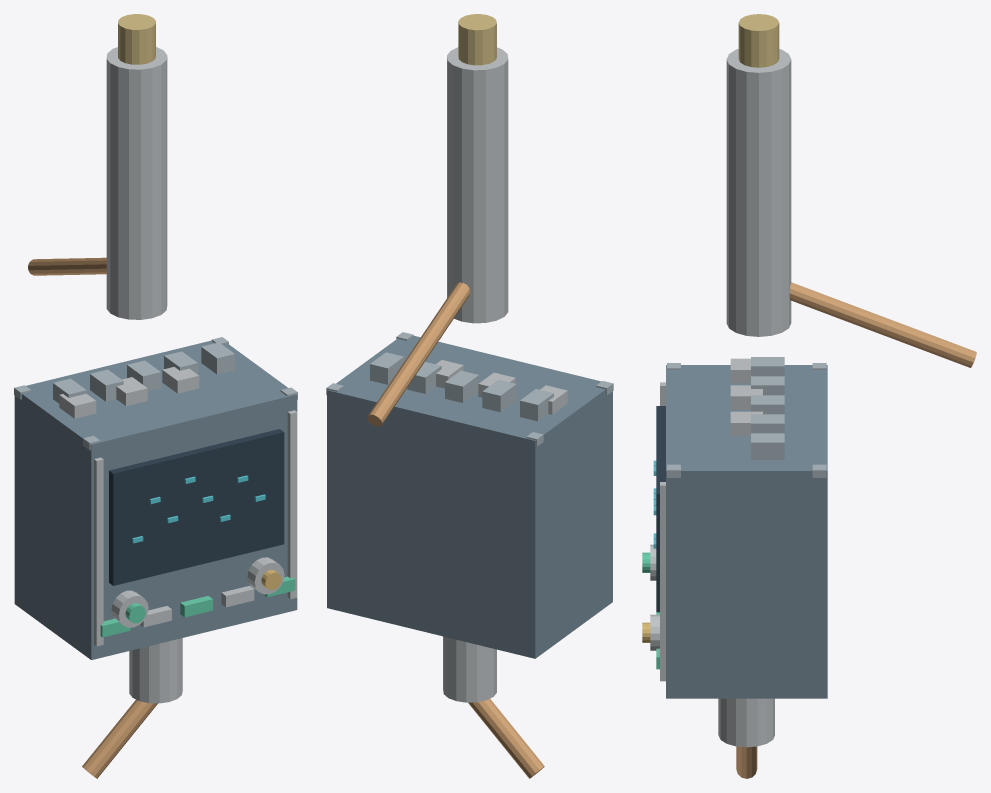
File: 29_L76_ReferenceElectrodeProbe.glb
3 renders of one model, left to right at view 1: azimuth 30°, elevation 25°; view 2: azimuth 150°, elevation 25°; view 3: azimuth 270°, elevation 25°, orthographic. The views are drawn at different scales.
Parts seen in each view (by area): view 1: ReferenceElectrodeProbe_Node_0000, ReferenceElectrodeProbe_Node_0007, ReferenceElectrodeProbe_Node_0036, ReferenceElectrodeProbe_Node_0034, ReferenceElectrodeProbe_Node_0006, ReferenceElectrodeProbe_Node_0035, ReferenceElectrodeProbe_Node_0005, ReferenceElectrodeProbe_Node_0037, ReferenceElectrodeProbe_Node_0038, ReferenceElectrodeProbe_Node_0028, ReferenceElectrodeProbe_Node_0023, ReferenceElectrodeProbe_Node_0019 (+9 smaller); view 2: ReferenceElectrodeProbe_Node_0000, ReferenceElectrodeProbe_Node_0036, ReferenceElectrodeProbe_Node_0034, ReferenceElectrodeProbe_Node_0038, ReferenceElectrodeProbe_Node_0035, ReferenceElectrodeProbe_Node_0037, ReferenceElectrodeProbe_Node_0025, ReferenceElectrodeProbe_Node_0026, ReferenceElectrodeProbe_Node_0024, ReferenceElectrodeProbe_Node_0028, ReferenceElectrodeProbe_Node_0027; view 3: ReferenceElectrodeProbe_Node_0000, ReferenceElectrodeProbe_Node_0036, ReferenceElectrodeProbe_Node_0038, ReferenceElectrodeProbe_Node_0034, ReferenceElectrodeProbe_Node_0037, ReferenceElectrodeProbe_Node_0007, ReferenceElectrodeProbe_Node_0006, ReferenceElectrodeProbe_Node_0028, ReferenceElectrodeProbe_Node_0024, ReferenceElectrodeProbe_Node_0027, ReferenceElectrodeProbe_Node_0035, ReferenceElectrodeProbe_Node_0026 (+3 smaller).
Boxes of the visible parts, x1=… form: ReferenceElectrodeProbe_Node_0000: x1=14, y1=340, x2=297, y2=659; ReferenceElectrodeProbe_Node_0007: x1=109, y1=429, x2=284, y2=585; ReferenceElectrodeProbe_Node_0036: x1=106, y1=47, x2=167, y2=319; ReferenceElectrodeProbe_Node_0034: x1=129, y1=638, x2=182, y2=703; ReferenceElectrodeProbe_Node_0006: x1=287, y1=410, x2=297, y2=599; ReferenceElectrodeProbe_Node_0035: x1=82, y1=699, x2=157, y2=778; ReferenceElectrodeProbe_Node_0005: x1=94, y1=457, x2=103, y2=646; ReferenceElectrodeProbe_Node_0037: x1=118, y1=14, x2=155, y2=64; ReferenceElectrodeProbe_Node_0038: x1=28, y1=257, x2=106, y2=275; ReferenceElectrodeProbe_Node_0028: x1=201, y1=342, x2=234, y2=374; ReferenceElectrodeProbe_Node_0023: x1=162, y1=367, x2=199, y2=393; ReferenceElectrodeProbe_Node_0019: x1=247, y1=557, x2=284, y2=594; ReferenceElectrodeProbe_Node_0000: x1=327, y1=335, x2=612, y2=658; ReferenceElectrodeProbe_Node_0036: x1=447, y1=47, x2=508, y2=323; ReferenceElectrodeProbe_Node_0034: x1=443, y1=636, x2=496, y2=702; ReferenceElectrodeProbe_Node_0038: x1=367, y1=282, x2=470, y2=426; ReferenceElectrodeProbe_Node_0035: x1=468, y1=699, x2=544, y2=778; ReferenceElectrodeProbe_Node_0037: x1=458, y1=14, x2=496, y2=65; ReferenceElectrodeProbe_Node_0025: x1=482, y1=379, x2=516, y2=412; ReferenceElectrodeProbe_Node_0026: x1=445, y1=370, x2=478, y2=402; ReferenceElectrodeProbe_Node_0024: x1=520, y1=389, x2=553, y2=421; ReferenceElectrodeProbe_Node_0028: x1=370, y1=352, x2=403, y2=384; ReferenceElectrodeProbe_Node_0027: x1=407, y1=362, x2=441, y2=393; ReferenceElectrodeProbe_Node_0000: x1=666, y1=365, x2=827, y2=698; ReferenceElectrodeProbe_Node_0036: x1=726, y1=49, x2=791, y2=336; ReferenceElectrodeProbe_Node_0038: x1=789, y1=282, x2=976, y2=367; ReferenceElectrodeProbe_Node_0034: x1=718, y1=698, x2=774, y2=747; ReferenceElectrodeProbe_Node_0037: x1=738, y1=14, x2=779, y2=67; ReferenceElectrodeProbe_Node_0007: x1=656, y1=406, x2=665, y2=612; ReferenceElectrodeProbe_Node_0006: x1=660, y1=482, x2=665, y2=681; ReferenceElectrodeProbe_Node_0028: x1=751, y1=433, x2=784, y2=459; ReferenceElectrodeProbe_Node_0024: x1=751, y1=357, x2=784, y2=376; ReferenceElectrodeProbe_Node_0027: x1=751, y1=414, x2=784, y2=433; ReferenceElectrodeProbe_Node_0035: x1=736, y1=746, x2=757, y2=778; ReferenceElectrodeProbe_Node_0026: x1=751, y1=395, x2=784, y2=414.
Size of the model in its own units: 0.6272 by 2.13 by 0.8269.
